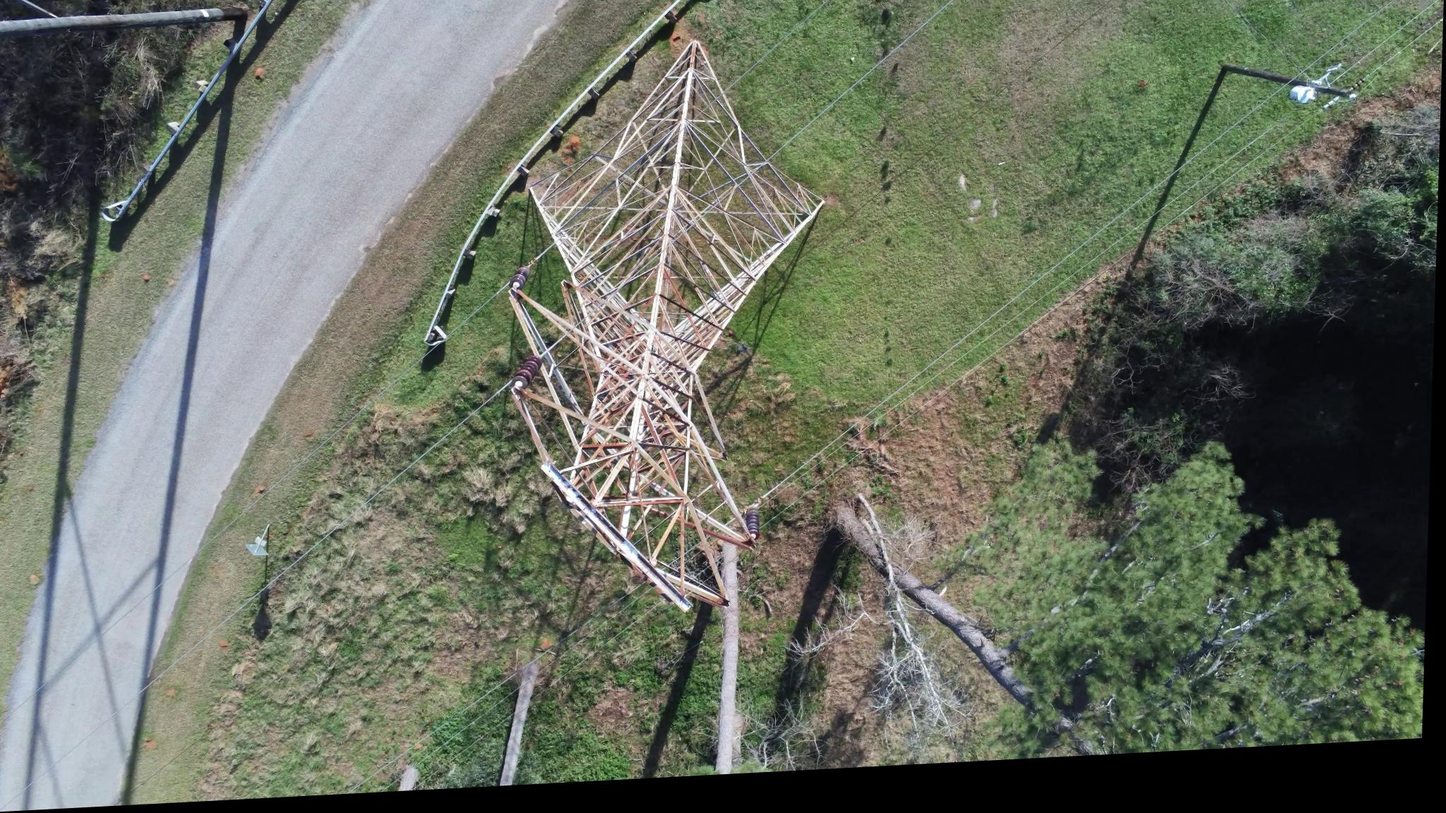tower: (492, 33, 836, 627)
